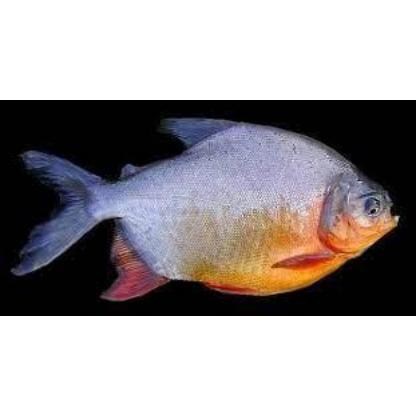ikan-pacu: (9, 116, 399, 302)
